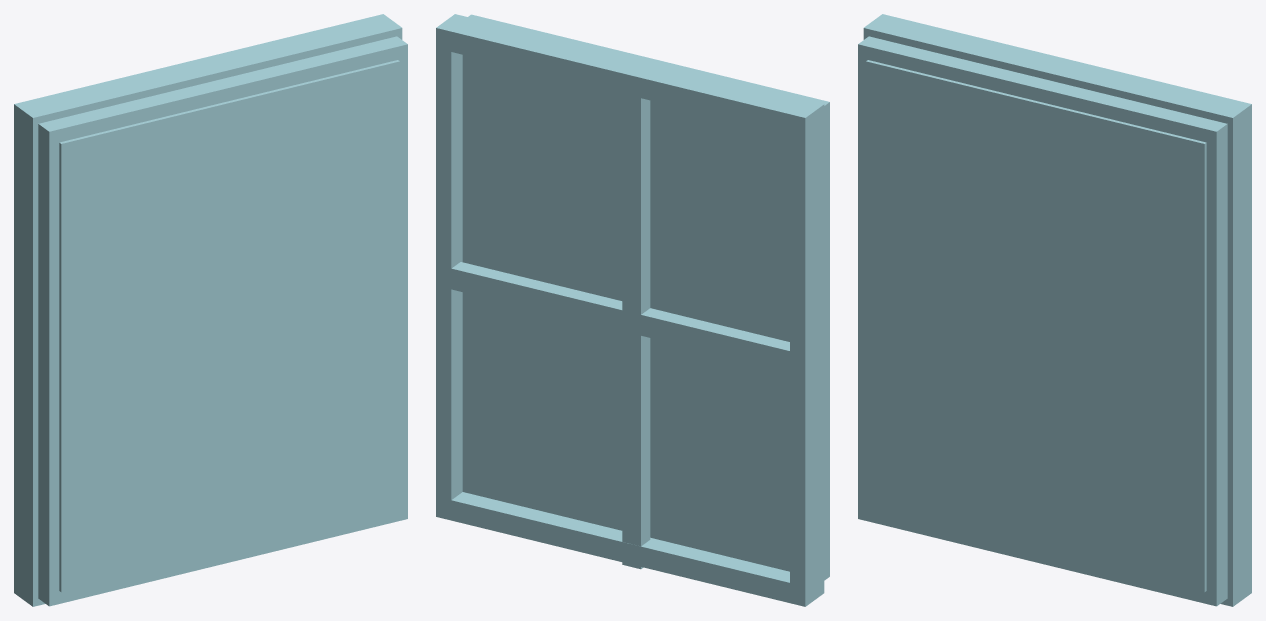
The model's file is ventanaBien.fbx.
The picture shows the model from 3 angles, left to right: view 1: azimuth 30°, elevation 25°; view 2: azimuth 150°, elevation 25°; view 3: azimuth 330°, elevation 25°; orthographic projection.
Visible parts, largest first — view 1: ventana; view 2: ventana; view 3: ventana.
Part boxes in pixels (box(x1,y1,x2,y2)): ventana: box(14, 14, 407, 606); ventana: box(436, 14, 829, 606); ventana: box(858, 14, 1251, 606).
Bounding box in the file's own units: 260 × 331 × 38.87.
